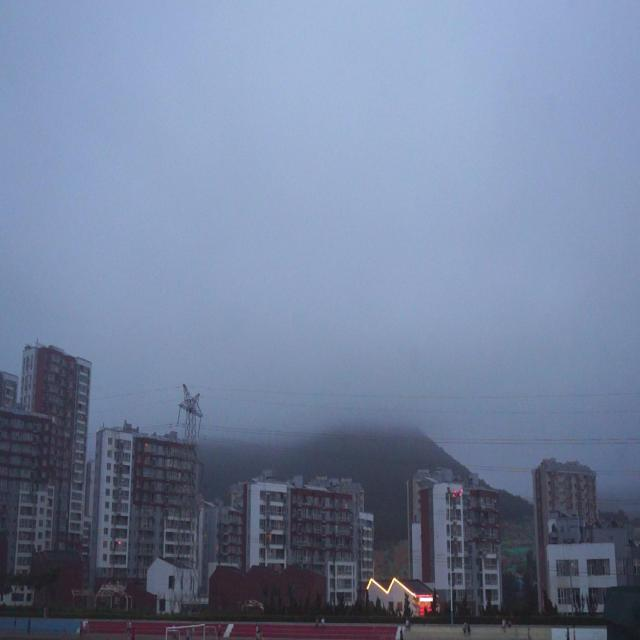drone: (450, 485, 464, 504)
